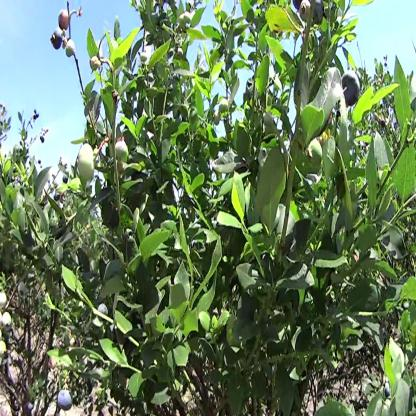intermediate: (58, 10, 73, 35), (91, 54, 102, 72)
mature: (342, 66, 362, 108), (57, 386, 74, 413), (313, 1, 327, 27), (51, 26, 64, 53)
young: (78, 142, 98, 186), (306, 140, 325, 174), (115, 138, 132, 165), (297, 2, 314, 25), (1, 312, 13, 336), (1, 288, 11, 315), (66, 38, 77, 59), (1, 340, 8, 362)
